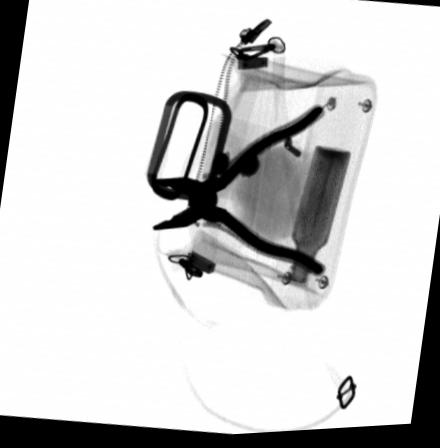Pliers: (148, 108, 326, 279)
